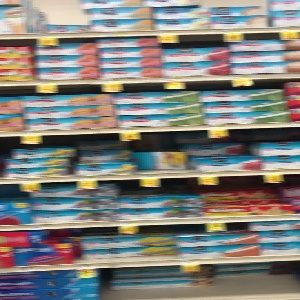void: (107, 261, 296, 300)
